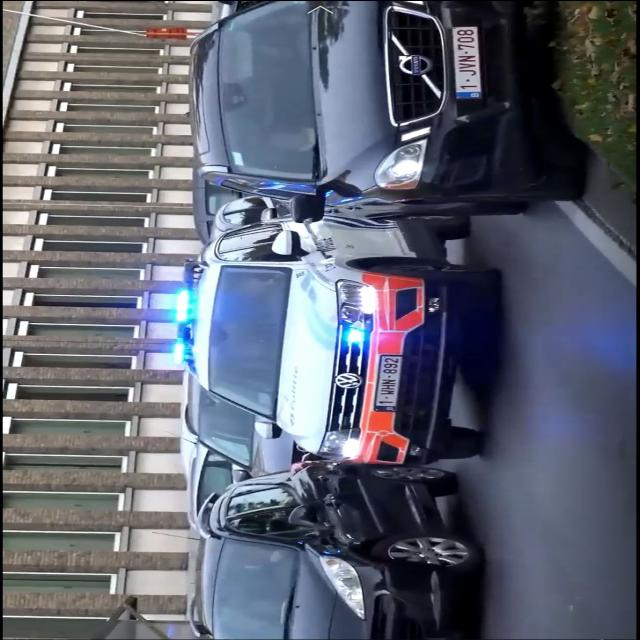emergency: (163, 212, 502, 464)
